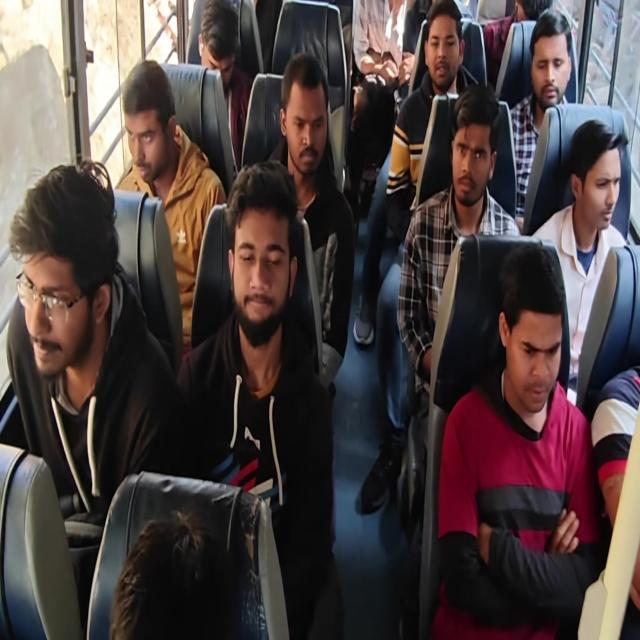person: (4, 1, 638, 638), (6, 158, 183, 633), (176, 158, 340, 638), (431, 241, 604, 638), (396, 82, 522, 403), (114, 60, 227, 358), (265, 51, 355, 395), (531, 118, 630, 405), (385, 0, 479, 241), (108, 509, 239, 639), (508, 8, 572, 228), (346, 0, 416, 197), (590, 366, 640, 611), (197, 0, 253, 173), (482, 0, 540, 91)
